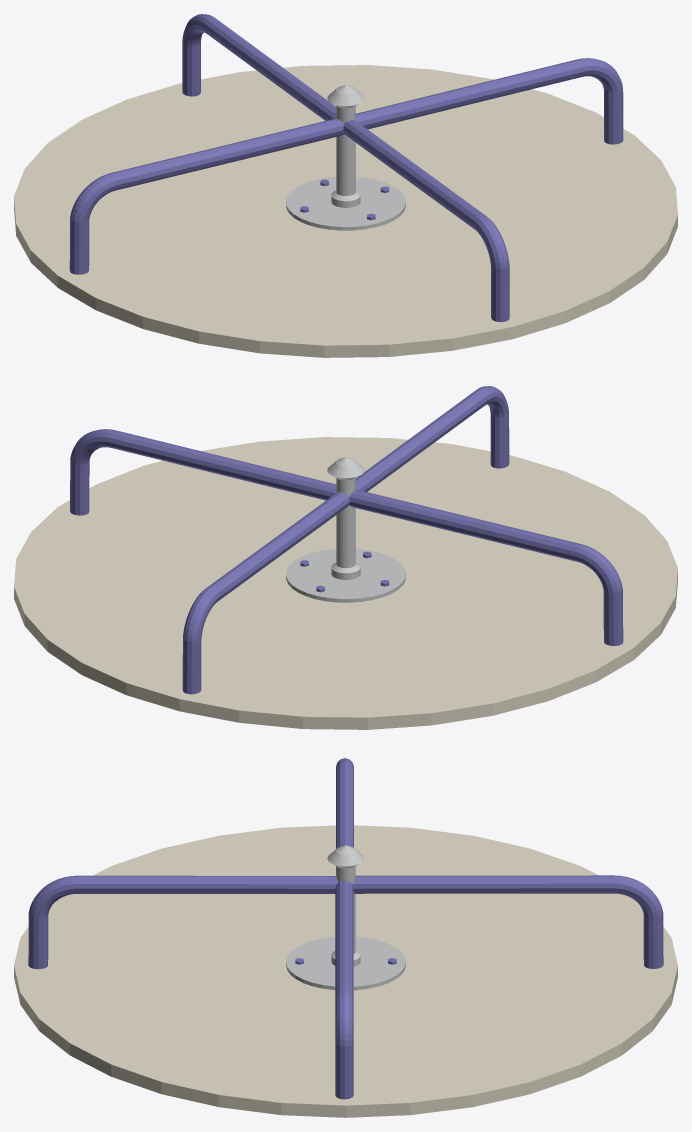
Rendered from carousel.glb.
3 renders of one model, top to bottom at view 1: azimuth 30°, elevation 25°; view 2: azimuth 150°, elevation 25°; view 3: azimuth 270°, elevation 25°, orthographic.
Visible parts, largest first — view 1: Circle.001, Circle, Torus.003, Torus.002, Torus, Torus.001; view 2: Circle.001, Circle, Torus.003, Torus.002, Torus.001, Torus; view 3: Circle.001, Torus.001, Torus, Circle, Torus.002, Torus.003.
Part boxes in pixels (box(x1,y1,x2,y2)): Circle.001: box(14, 65, 677, 357); Circle: box(286, 85, 405, 230); Torus.003: box(69, 118, 344, 274); Torus.002: box(355, 58, 623, 144); Torus: box(343, 119, 509, 322); Torus.001: box(182, 14, 336, 120); Circle.001: box(14, 437, 677, 729); Circle: box(286, 457, 405, 602); Torus.003: box(349, 489, 623, 645); Torus.002: box(70, 429, 336, 515); Torus.001: box(182, 492, 349, 694); Torus: box(355, 386, 509, 491); Circle.001: box(14, 825, 677, 1117); Torus.001: box(352, 875, 663, 968); Torus: box(28, 875, 338, 969); Circle: box(286, 845, 405, 990); Torus.002: box(335, 881, 353, 1099); Torus.003: box(336, 758, 353, 875).
Bounding box in the file's own units: 8.58 × 1.89 × 8.58.
